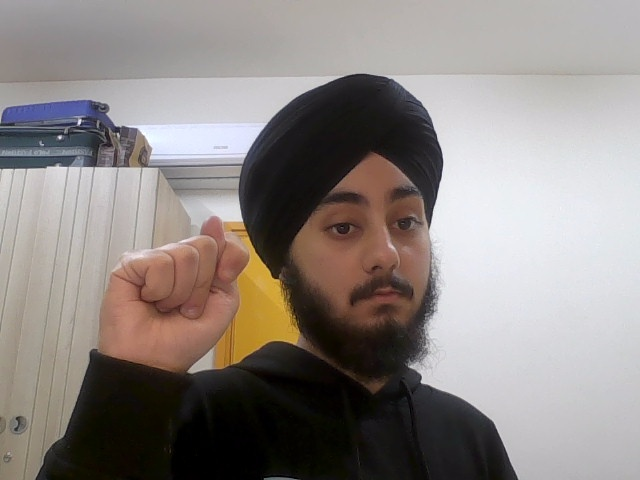Bathroom: (102, 212, 249, 356)
